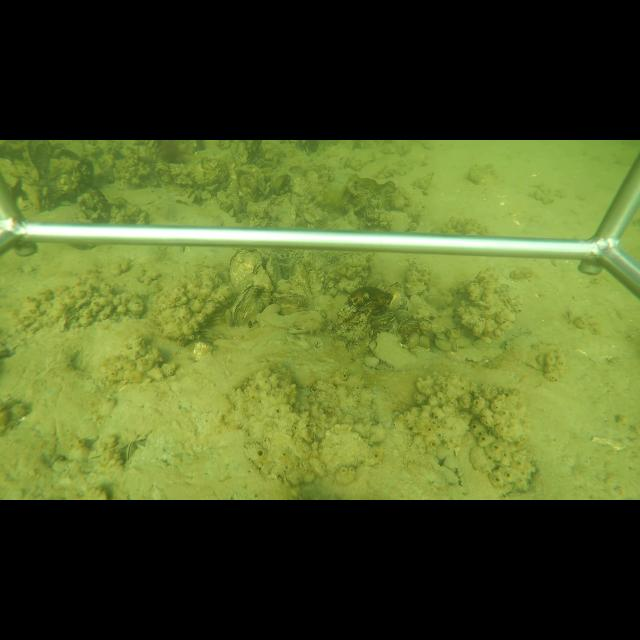Oyster-Closed: (316, 424, 372, 472), (259, 303, 327, 333), (369, 330, 418, 370), (232, 284, 266, 327), (228, 248, 262, 290), (266, 255, 278, 282), (400, 295, 412, 314), (406, 332, 419, 349), (302, 210, 316, 224), (419, 335, 431, 349)
